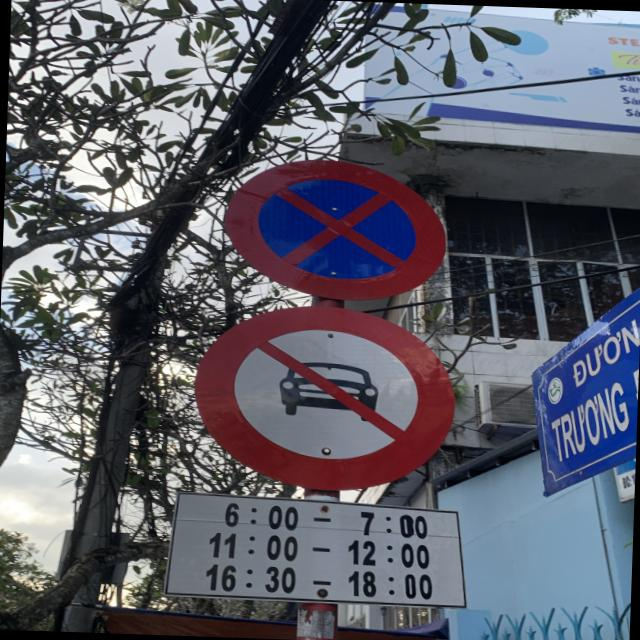Cam_Dung_Va_Dau_Xe: (219, 154, 452, 304)
Cam_O_To: (191, 300, 458, 491)
